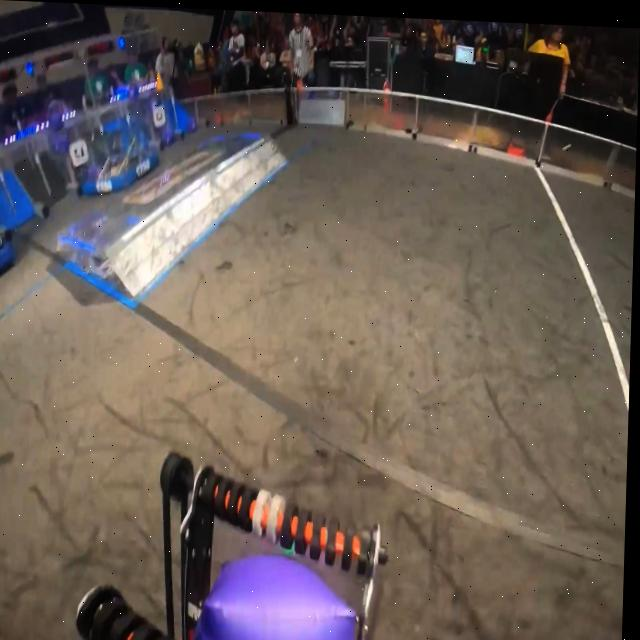robot: (81, 114, 162, 200), (0, 229, 15, 281)
